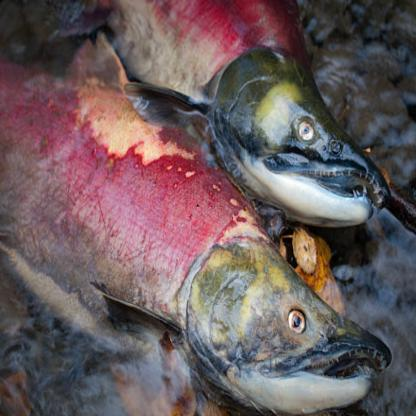sockeye: (3, 51, 375, 402), (121, 0, 387, 233)
